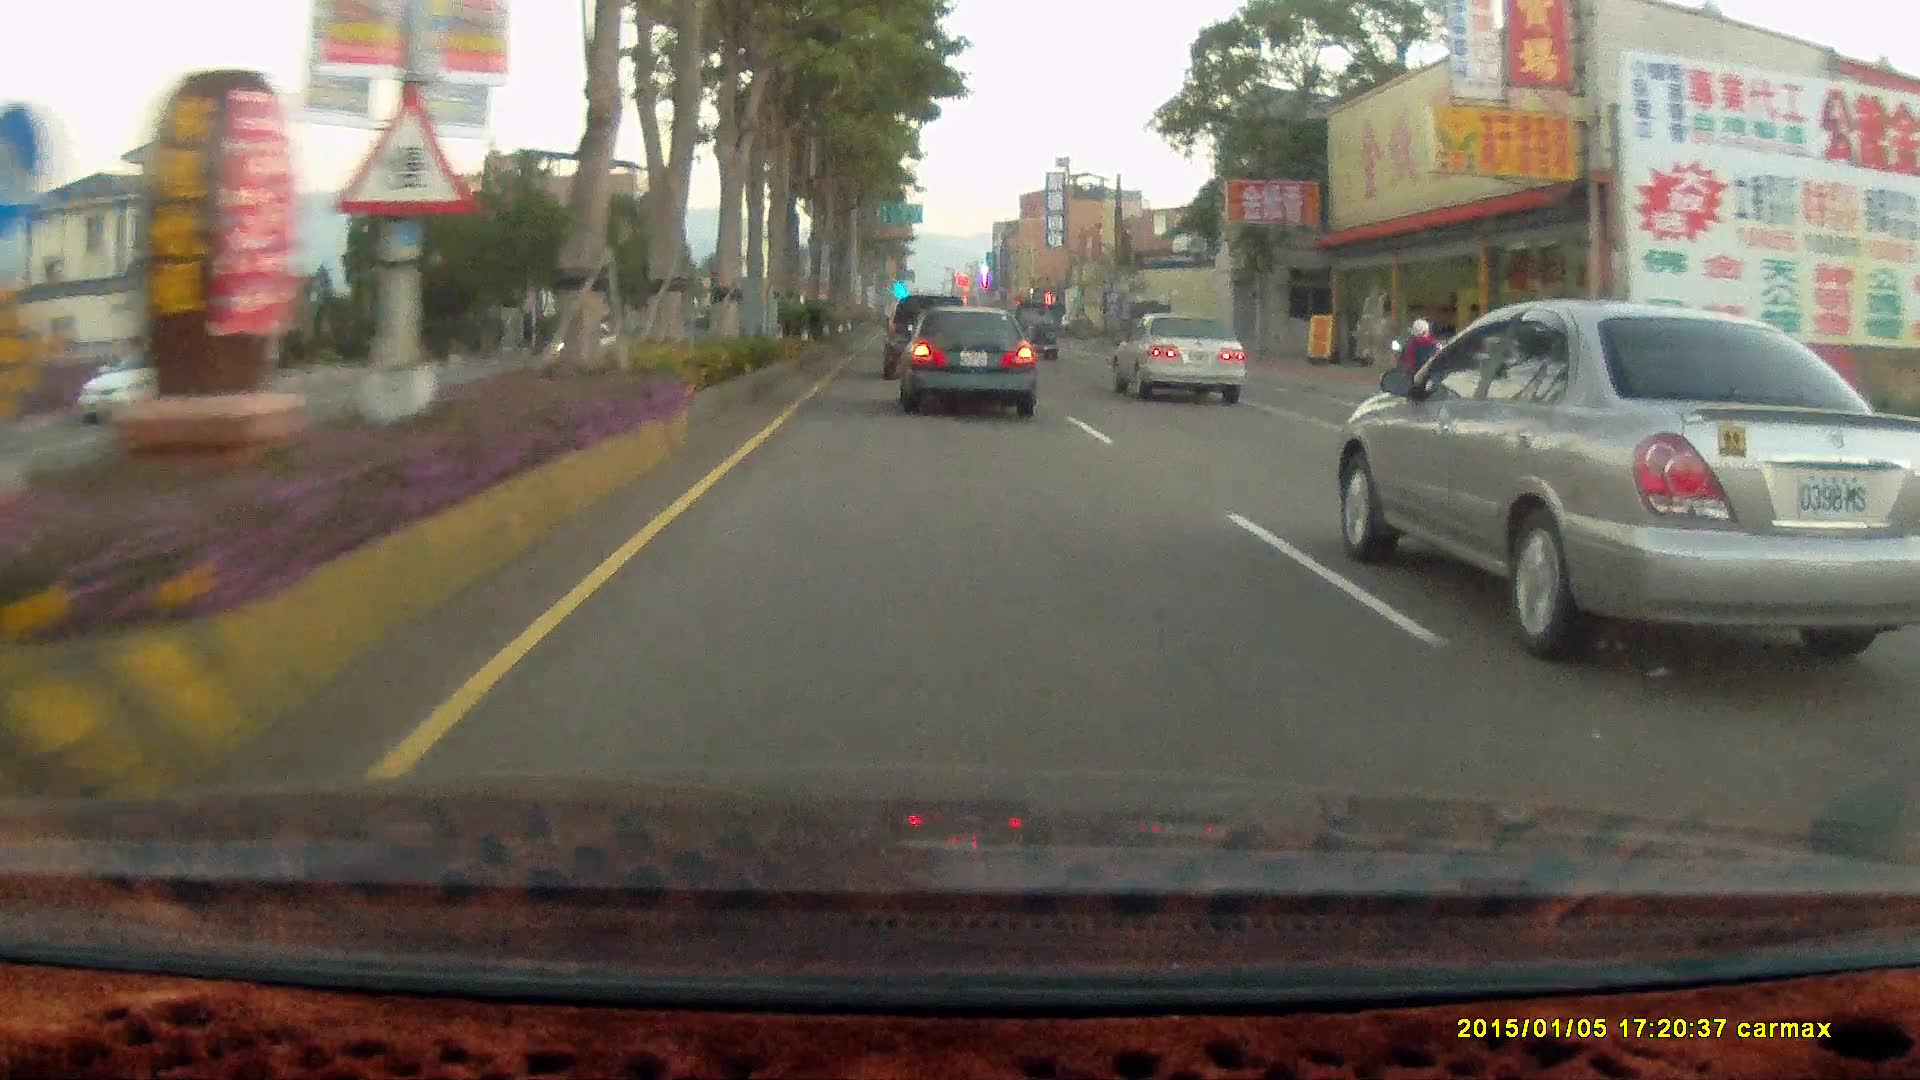rider: (1387, 313, 1449, 432), (1392, 314, 1449, 423)
vehicle: (1342, 289, 1920, 638), (896, 304, 1042, 418), (895, 302, 1037, 414), (53, 330, 242, 408), (77, 337, 248, 423), (1107, 309, 1244, 401), (1122, 302, 1255, 392), (883, 291, 973, 380), (880, 293, 963, 378), (1006, 295, 1060, 360)
